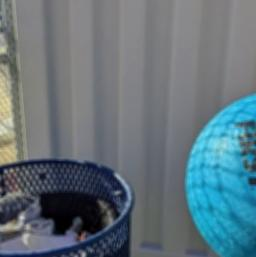algae: (182, 87, 256, 257)
